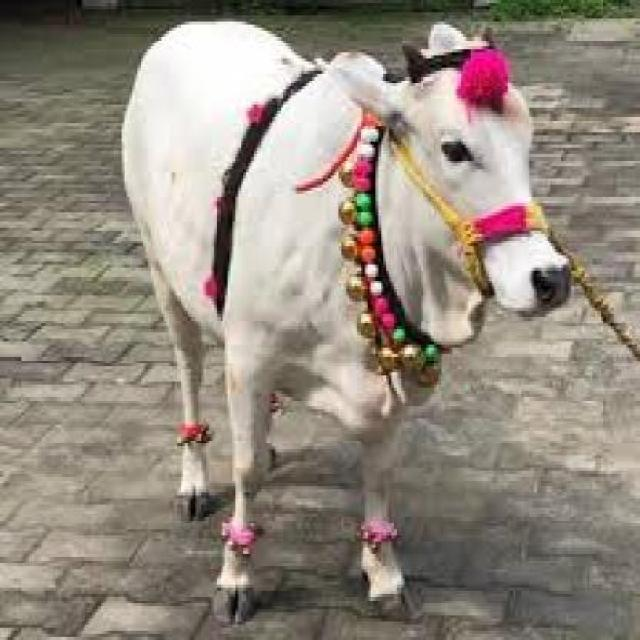cow: (113, 2, 561, 626)
